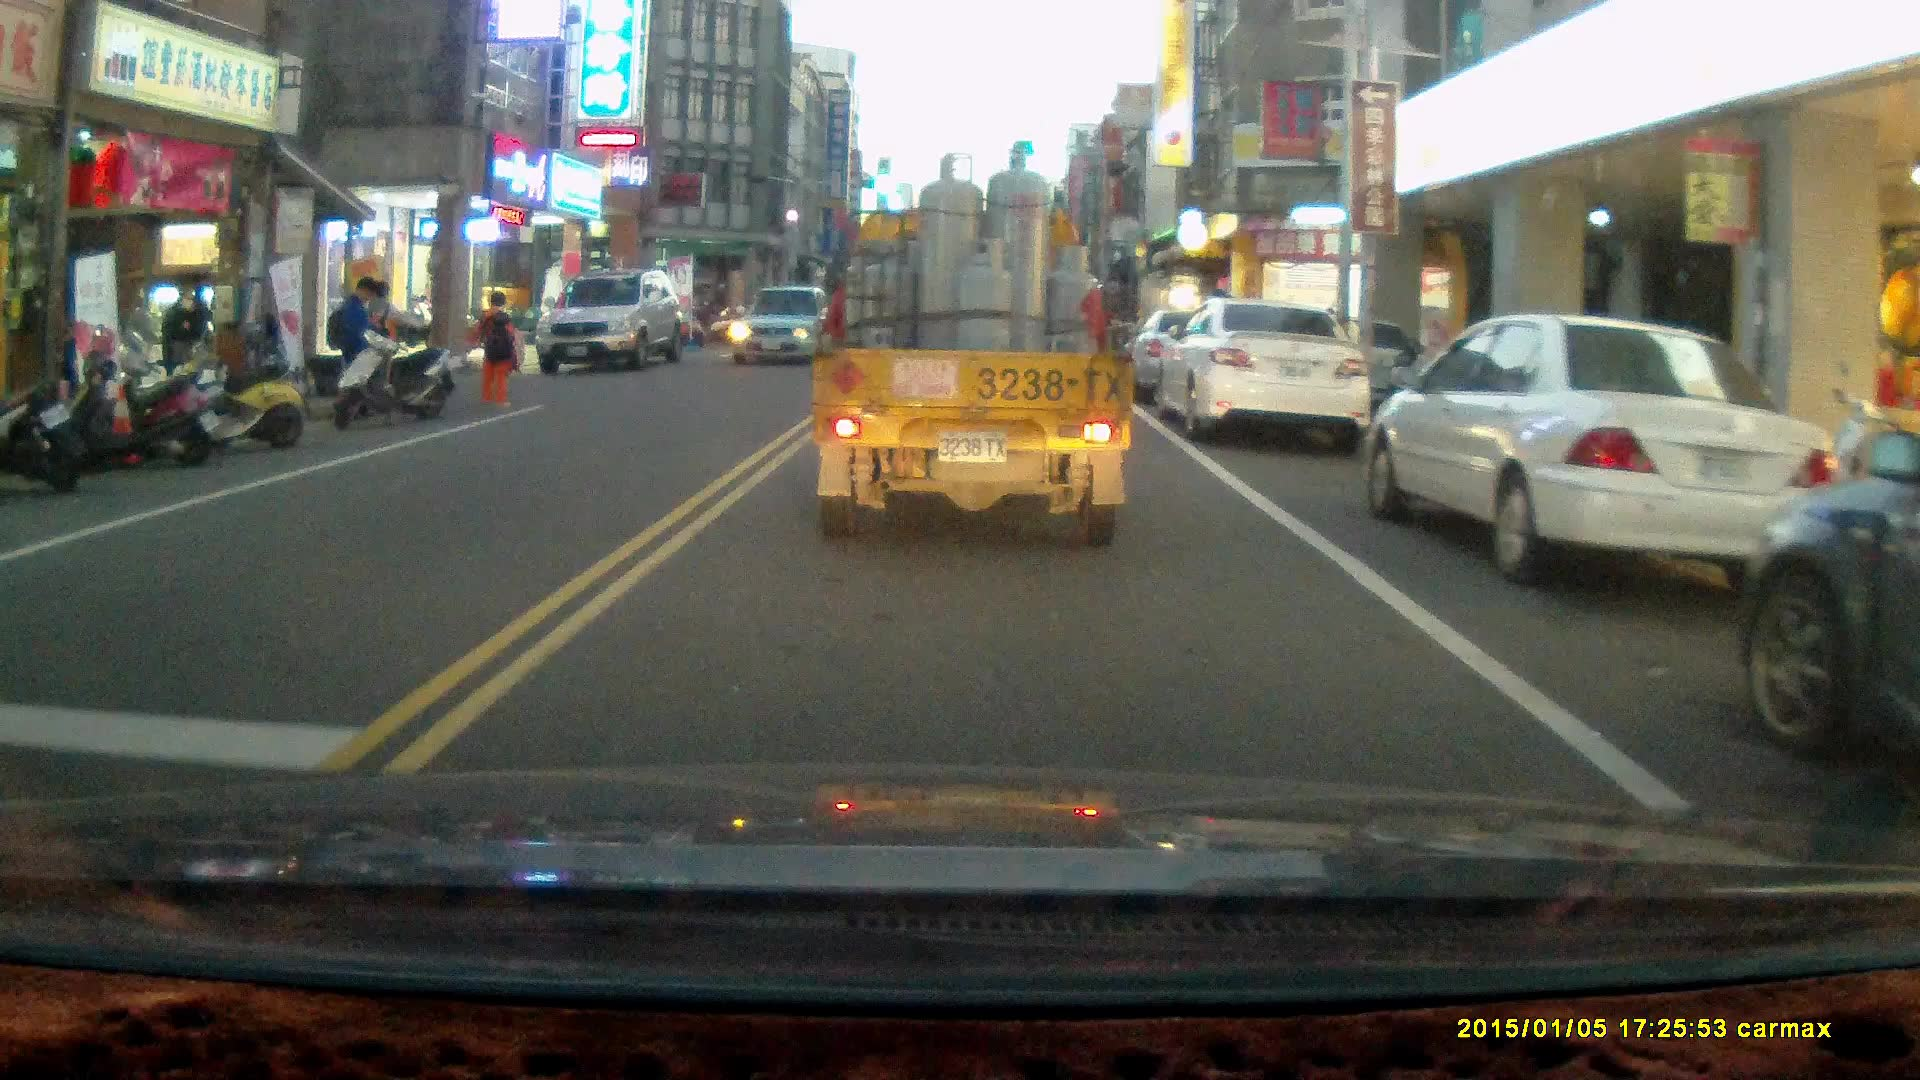pedestrian: (315, 276, 375, 420), (159, 284, 206, 429), (465, 291, 520, 410)
vehicle: (1362, 312, 1853, 590), (809, 149, 1141, 550), (1739, 437, 1920, 798), (1152, 297, 1370, 442), (539, 269, 688, 374), (729, 286, 839, 370)
